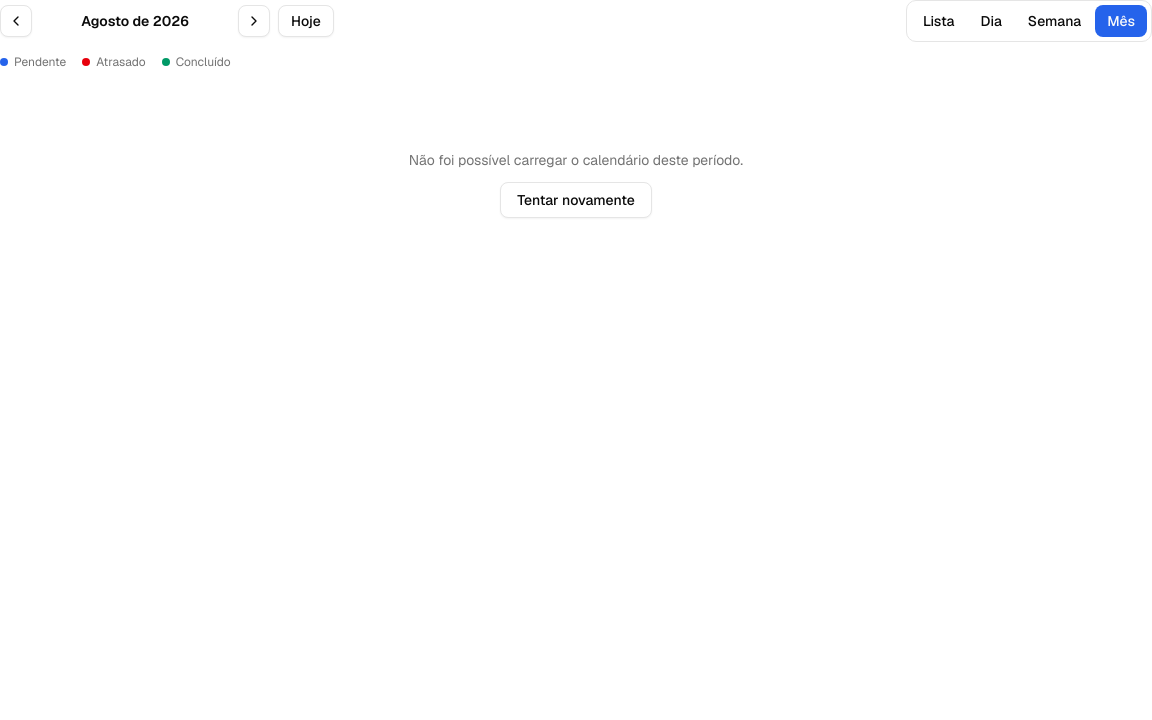
Test: Agenda2Calendario — leitura do período visível › erro-e-tentar: mensagem fixa, nova leitura ao clicar e grade ao resolver
Expected: the text "Não foi possível carregar o calendário deste período." is shown, left=409, top=150, right=743, bottom=170
Click the button "Tentar novamente" at (576, 200), box left=500, top=182, right=652, bottom=218
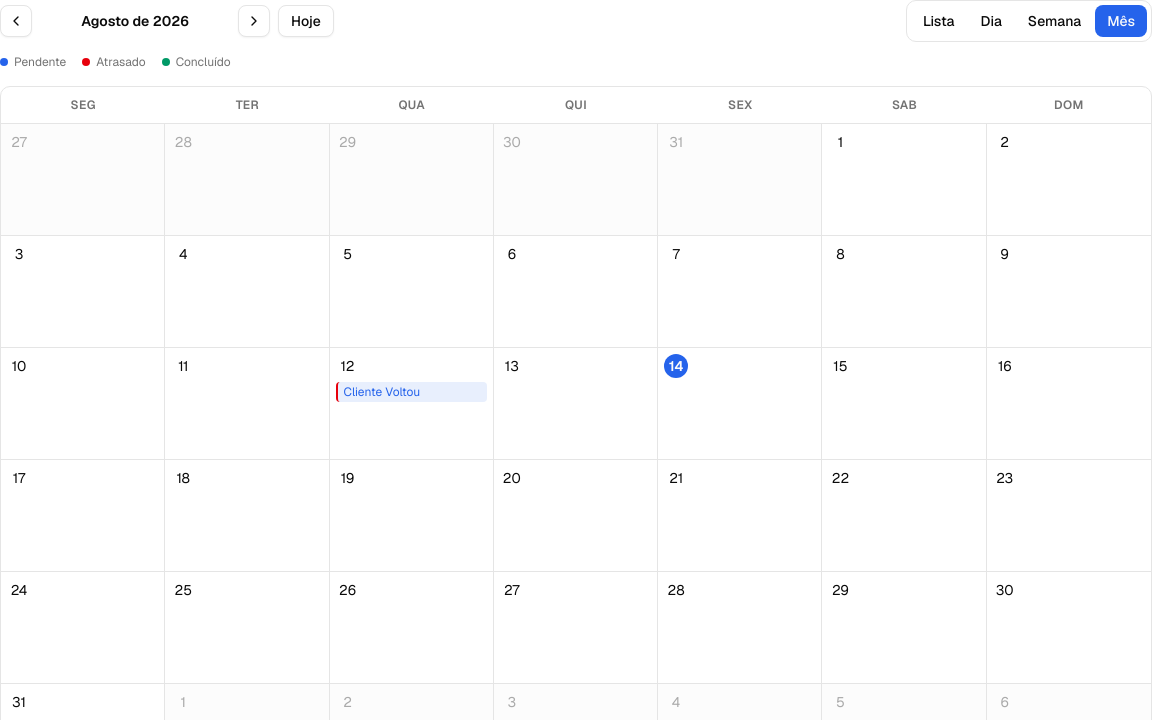
Expected: the text "Cliente Voltou" is shown, left=344, top=384, right=420, bottom=400
Expected: the text "Não foi possível carregar o calendário deste período." is gone
